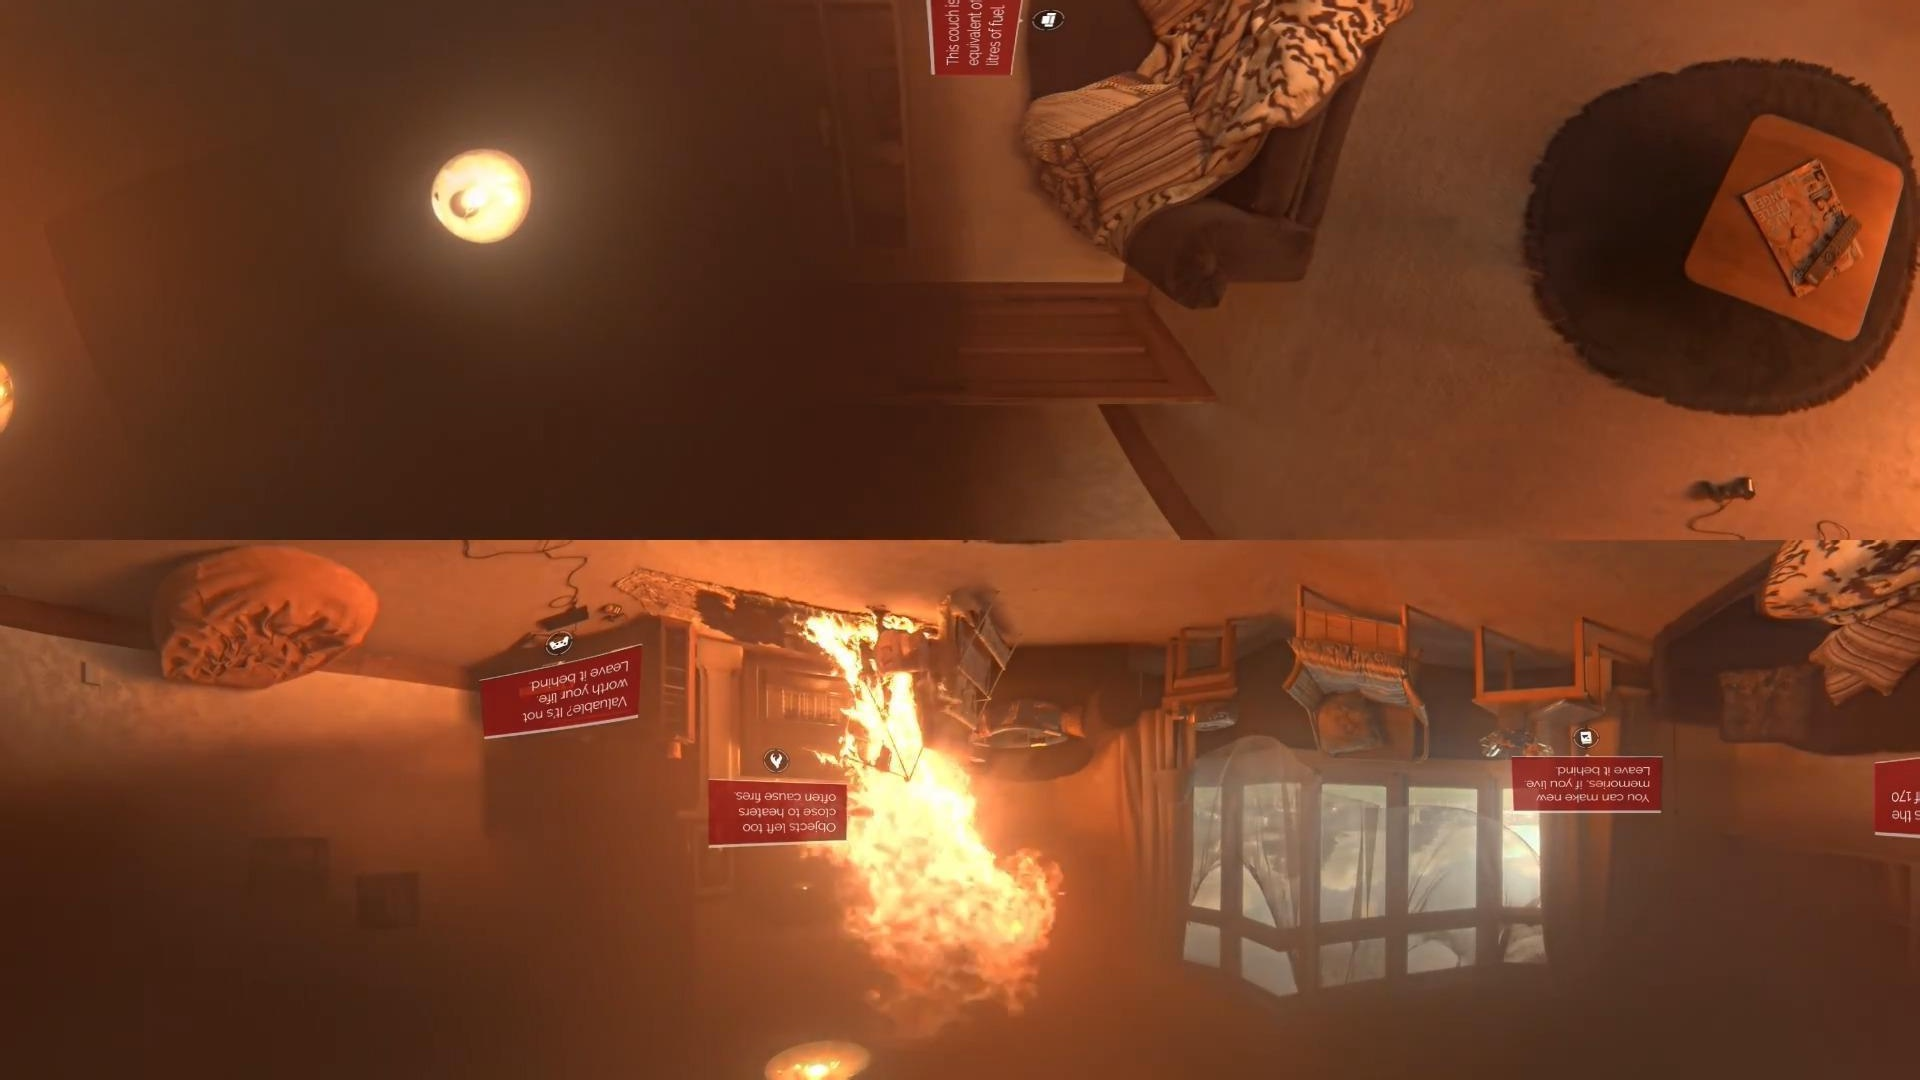fire: (798, 625, 1052, 1034)
